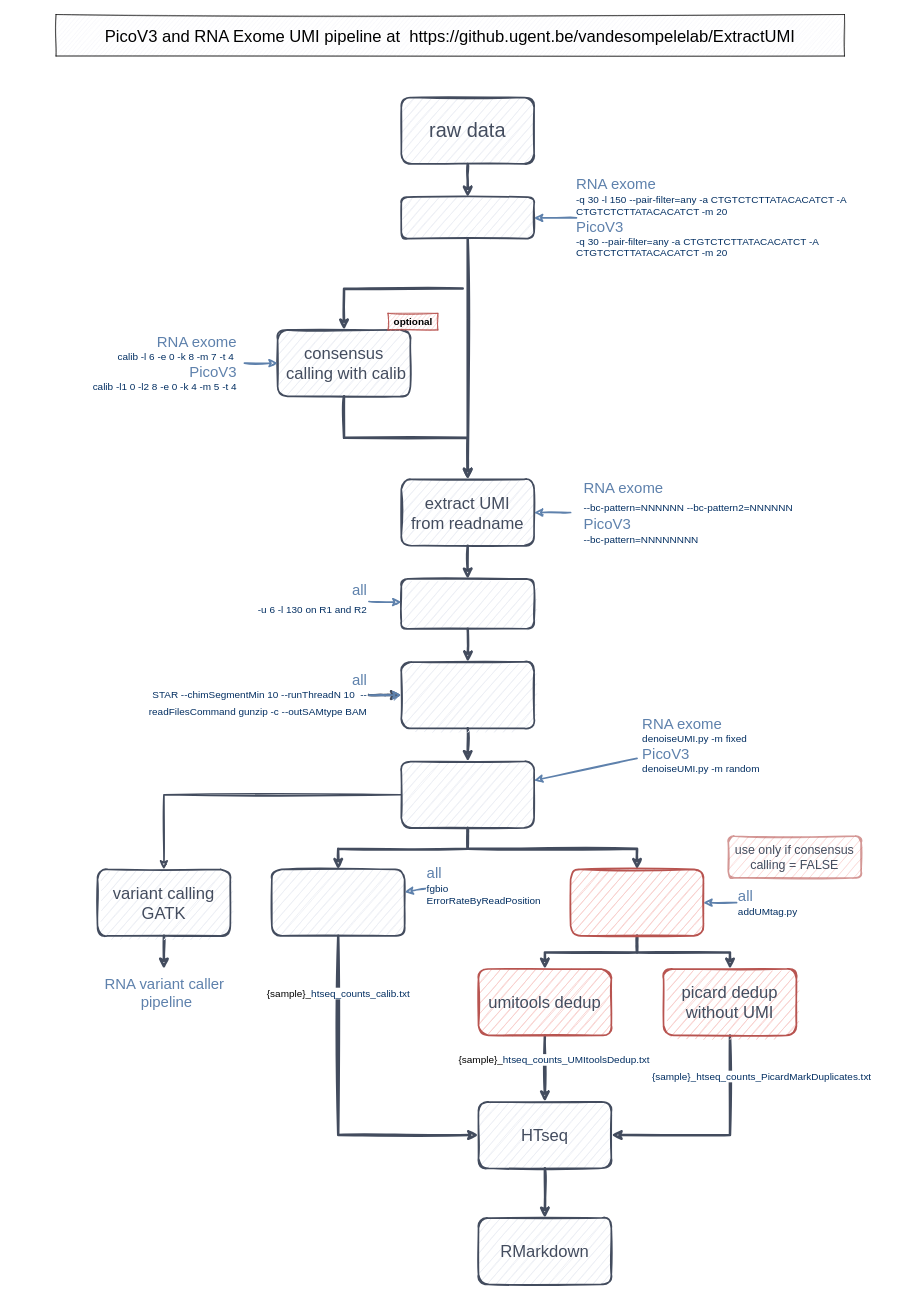
This 897x1300 diagram has some shape labels left out. The box of each missing label's shape, as (x1, y1, x2, y2) in pixels:
add UMI as UM tag in bam: (569, 868, 704, 936)
cutadapt removeUMI: (400, 578, 535, 629)
cutadapt trim: (400, 196, 535, 239)
determine error rate on spikes: (271, 868, 405, 936)
remove invalid UMIs: (400, 760, 535, 828)
STAR: (400, 661, 535, 729)
